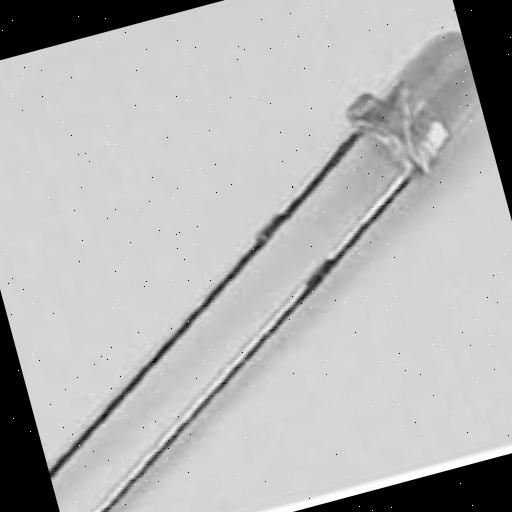LED: (62, 0, 512, 492)
